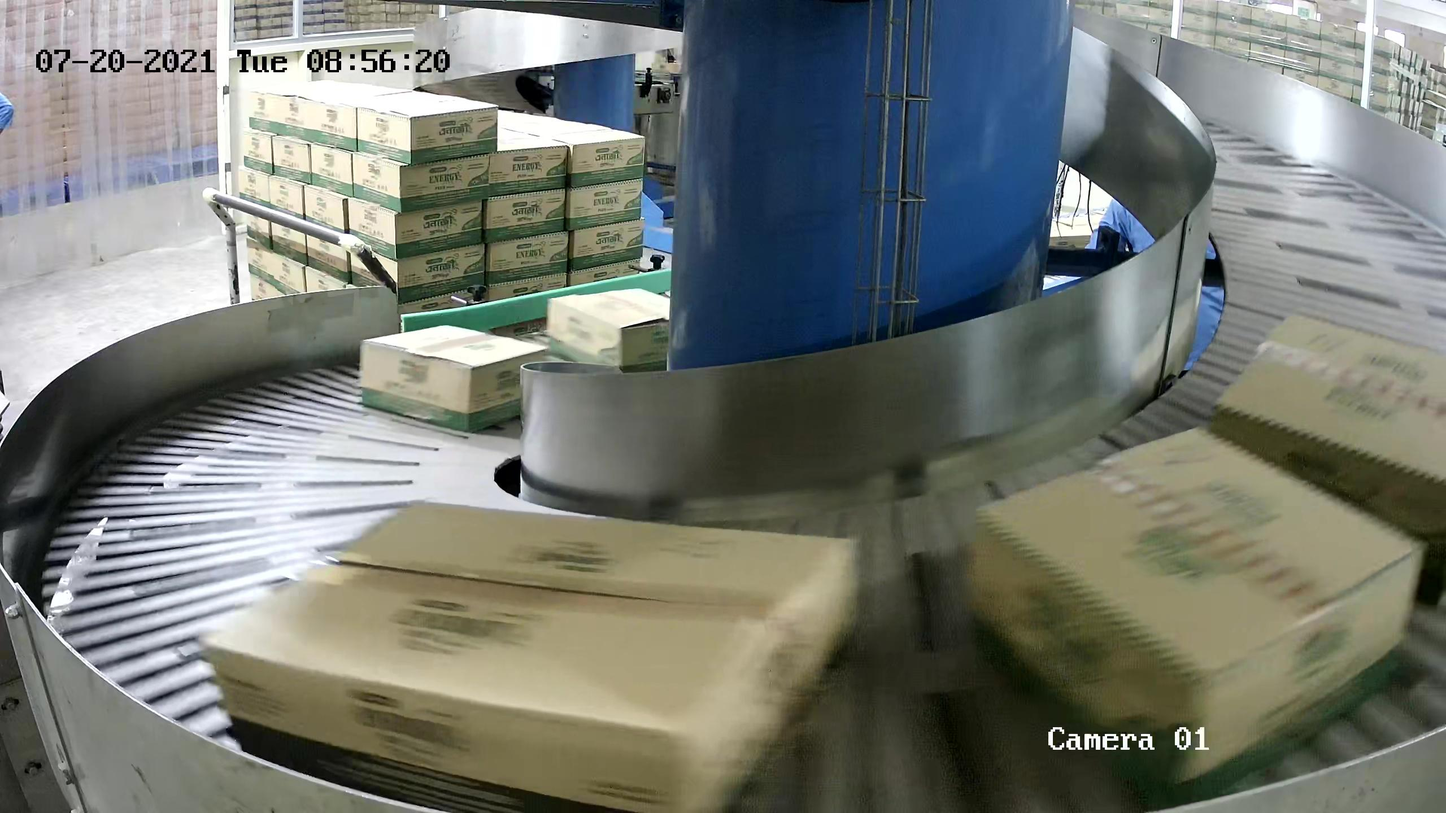Box: (201, 494, 862, 813), (961, 422, 1428, 813), (1200, 309, 1446, 611), (358, 323, 549, 437), (546, 287, 708, 384)
